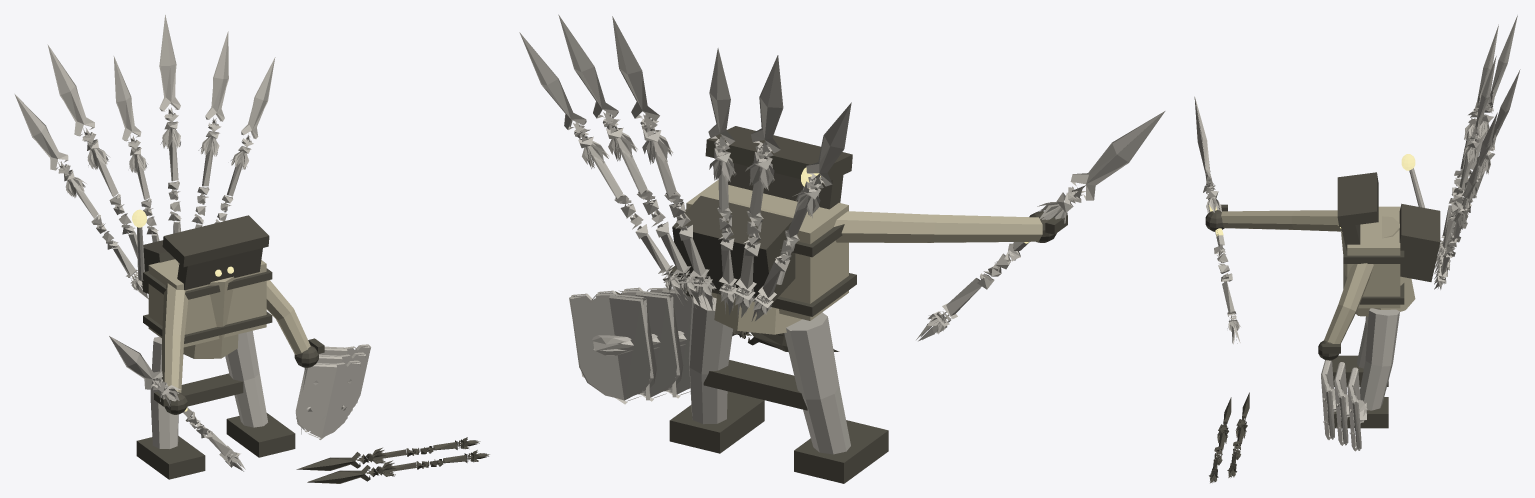
File: quartermaster.glb
The picture shows the model from 3 angles, left to right: view 1: azimuth 30°, elevation 25°; view 2: azimuth 150°, elevation 25°; view 3: azimuth 270°, elevation 25°; orthographic projection. The views are drawn at different scales.
Parts seen in each view (by area): view 1: quartermaster_bone, quartermaster_dark, quartermaster_body; view 2: quartermaster_bone, quartermaster_dark, quartermaster_body; view 3: quartermaster_bone, quartermaster_dark, quartermaster_body.
Part boxes in pixels (left/top/right/bottom): quartermaster_bone: left=14, top=15, right=370, bottom=471; quartermaster_dark: left=136, top=215, right=489, bottom=483; quartermaster_body: left=148, top=259, right=310, bottom=392; quartermaster_bone: left=519, top=14, right=1165, bottom=454; quartermaster_dark: left=605, top=126, right=1067, bottom=483; quartermaster_body: left=686, top=179, right=1042, bottom=334; quartermaster_bone: left=1194, top=15, right=1520, bottom=451; quartermaster_dark: left=1205, top=172, right=1440, bottom=483; quartermaster_body: left=1221, top=206, right=1415, bottom=343.
Size of the model in its own units: 2.62 by 2.35 by 2.
